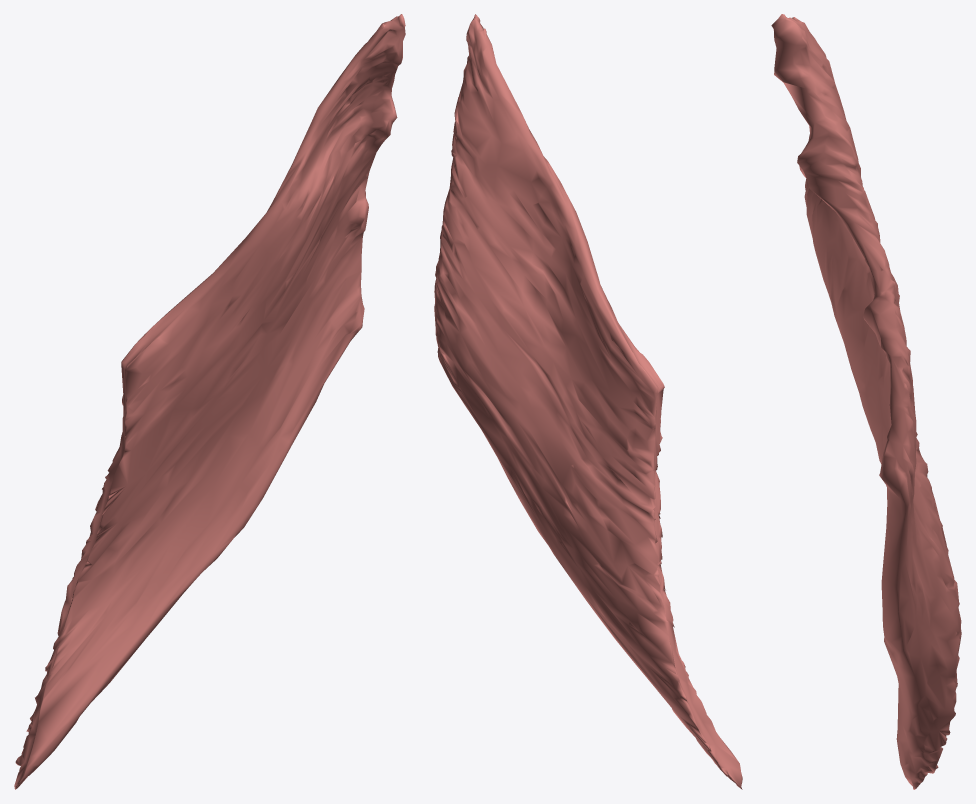
3 views of the same model, side by side, from view 1: azimuth 30°, elevation 25°; view 2: azimuth 150°, elevation 25°; view 3: azimuth 270°, elevation 25° (orthographic). The views are drawn at different scales.
Visible parts, largest first — view 1: ZA_8d4c18e9bb505a19; view 2: ZA_8d4c18e9bb505a19; view 3: ZA_8d4c18e9bb505a19.
Boxes of the visible parts, <box> form: ZA_8d4c18e9bb505a19: <box>14,14,405,789</box>; ZA_8d4c18e9bb505a19: <box>434,14,742,789</box>; ZA_8d4c18e9bb505a19: <box>771,14,961,789</box>.
Size of the model in its own units: 0.0885 by 0.1801 by 0.0309.
